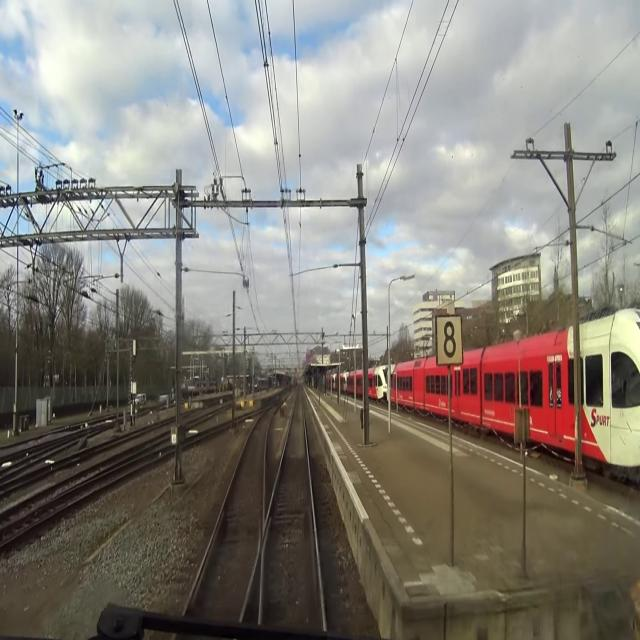rail-track: (186, 412, 270, 620), (263, 397, 320, 629), (0, 495, 76, 537), (0, 481, 76, 522), (244, 562, 259, 622)
